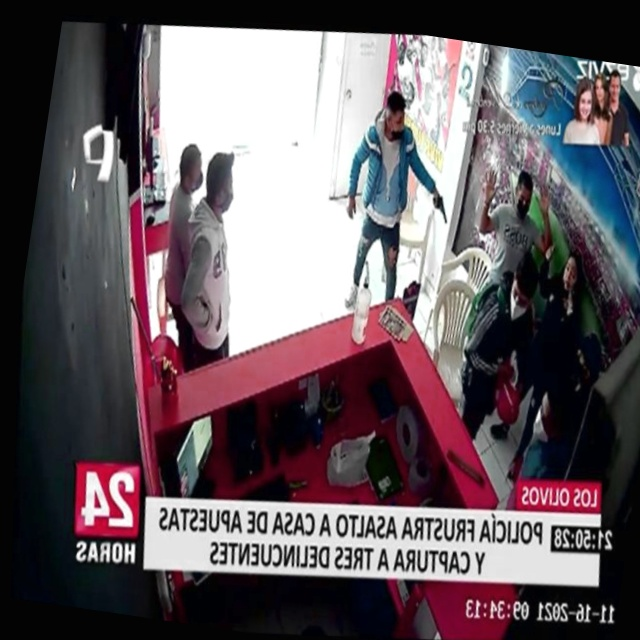gun: (419, 177, 458, 238)
